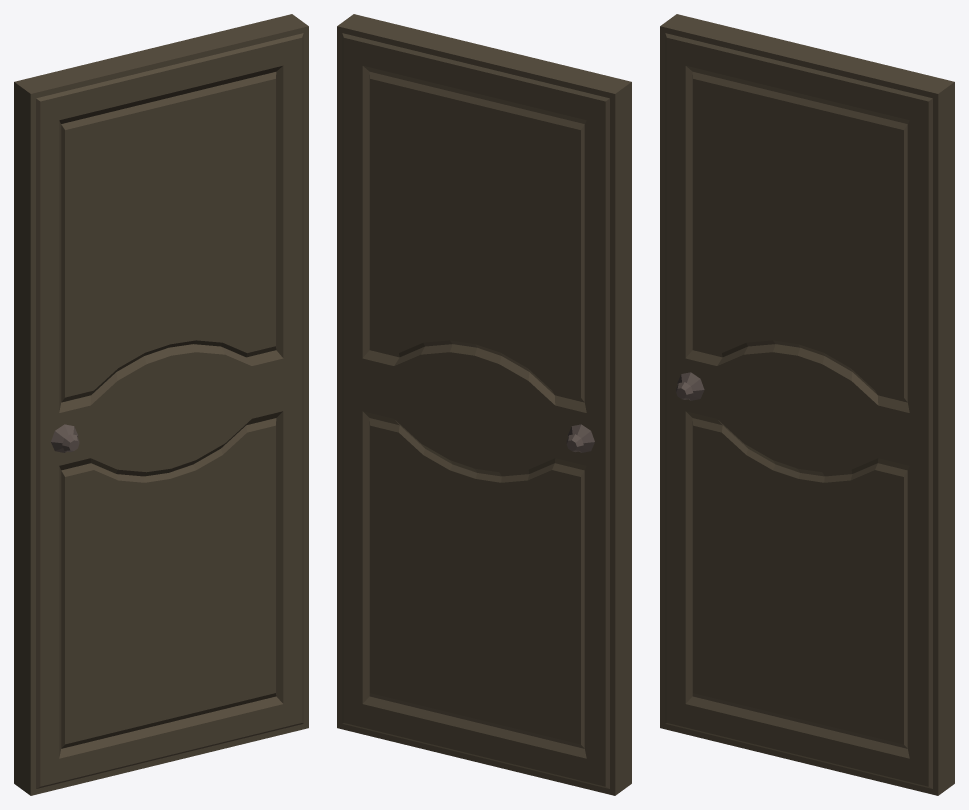
3 views of the same model, side by side, from view 1: azimuth 30°, elevation 25°; view 2: azimuth 150°, elevation 25°; view 3: azimuth 330°, elevation 25° (orthographic).
Visible parts, largest first — view 1: Door_4_Cube.048; view 2: Door_4_Cube.048; view 3: Door_4_Cube.048.
Part boxes in pixels (left/top/right/bottom): Door_4_Cube.048: left=14, top=14, right=308, bottom=795; Door_4_Cube.048: left=337, top=14, right=631, bottom=795; Door_4_Cube.048: left=660, top=14, right=954, bottom=795.
Bounding box in the file's own units: 1.74 × 4.2 × 0.4211.
